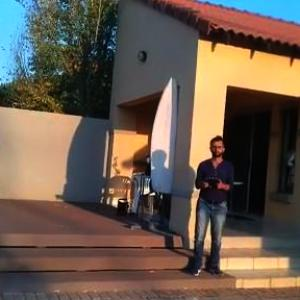follow: (186, 130, 236, 279)
